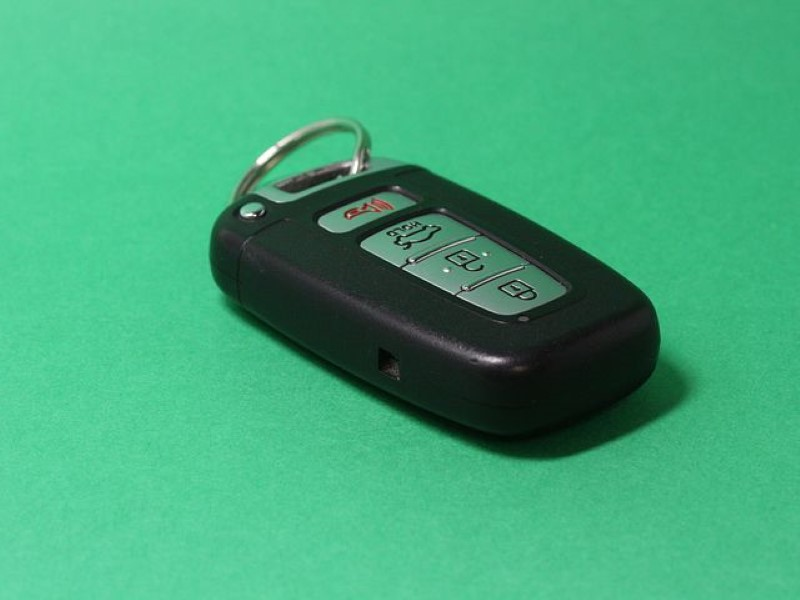carkey: (206, 118, 667, 447)
